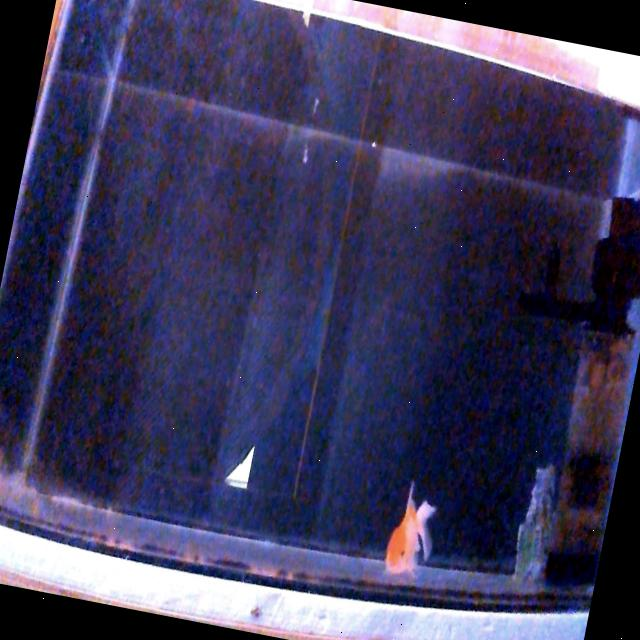fish: (386, 484, 436, 574)
